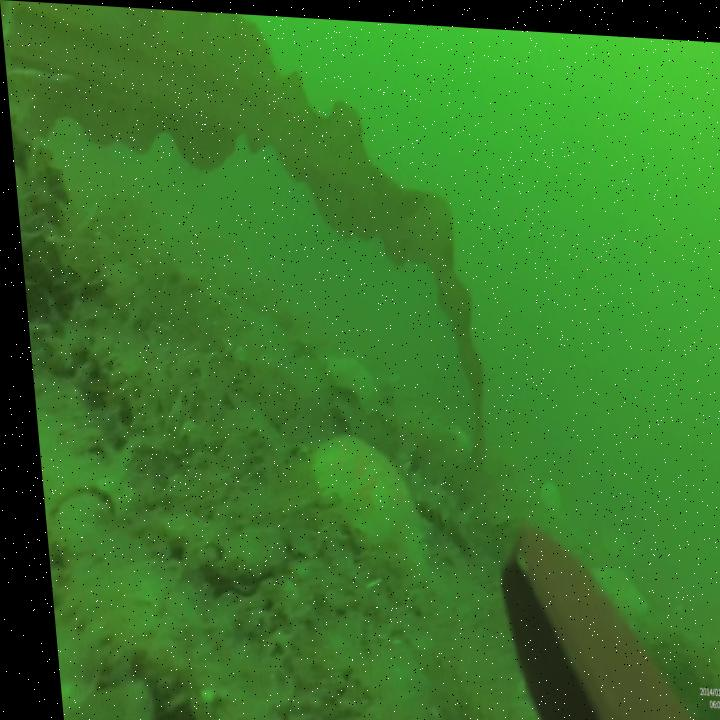starfish: (300, 426, 420, 562), (316, 344, 375, 412)
